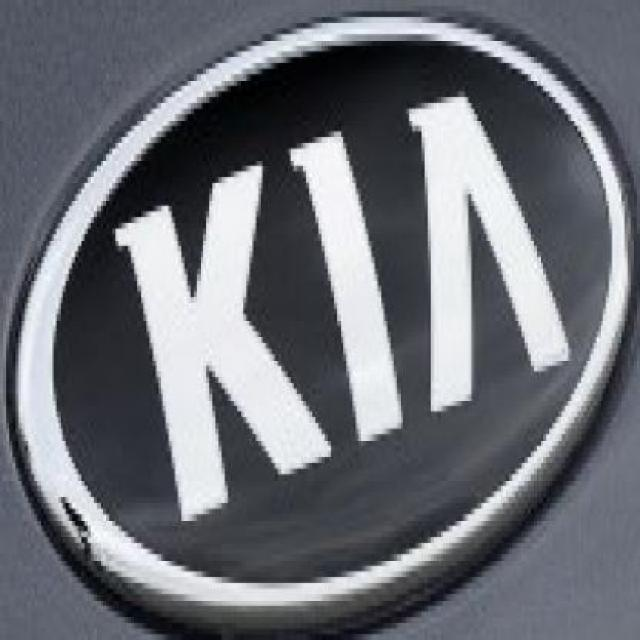KIA: (0, 0, 638, 635)
